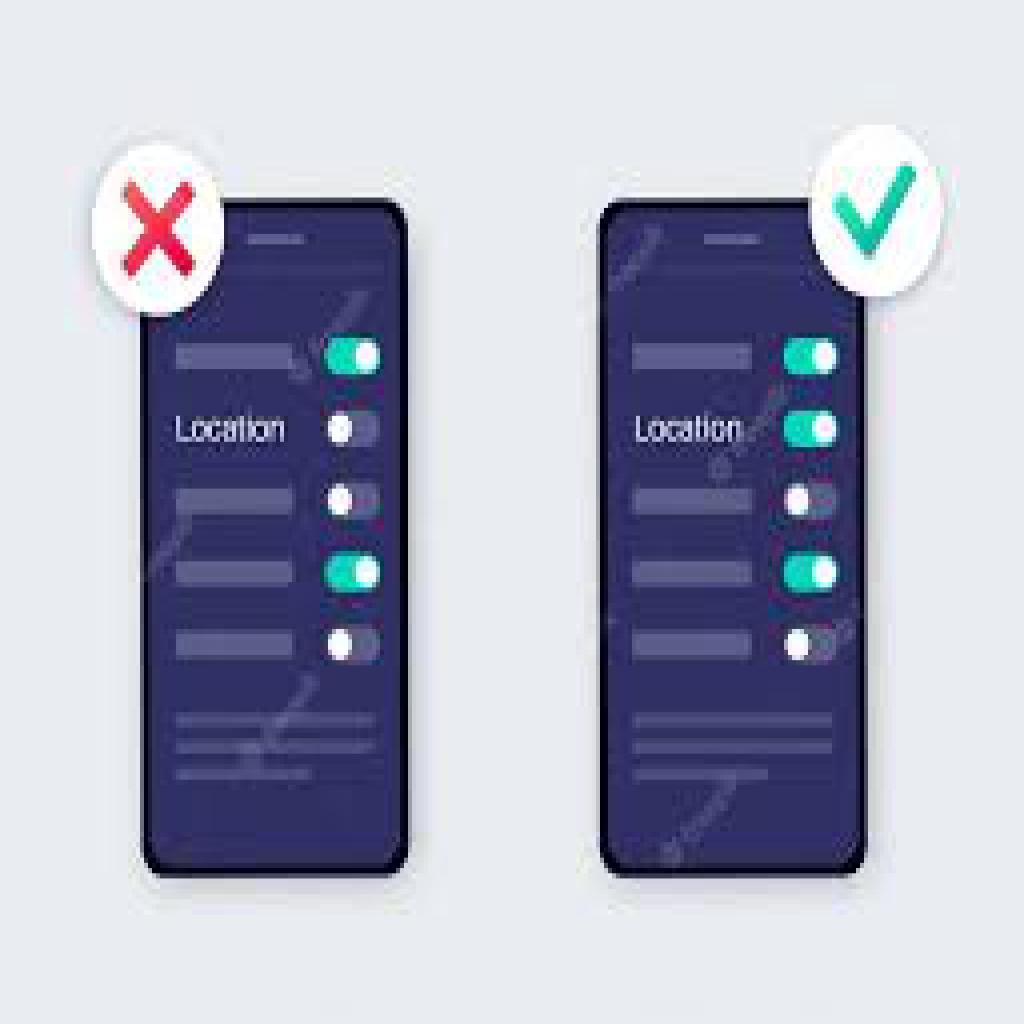switch: (322, 332, 384, 378), (322, 551, 383, 596), (328, 621, 379, 672), (326, 482, 386, 522), (326, 412, 385, 450), (785, 553, 841, 593), (784, 339, 842, 376), (784, 483, 839, 522), (785, 411, 839, 449), (784, 627, 840, 663)
